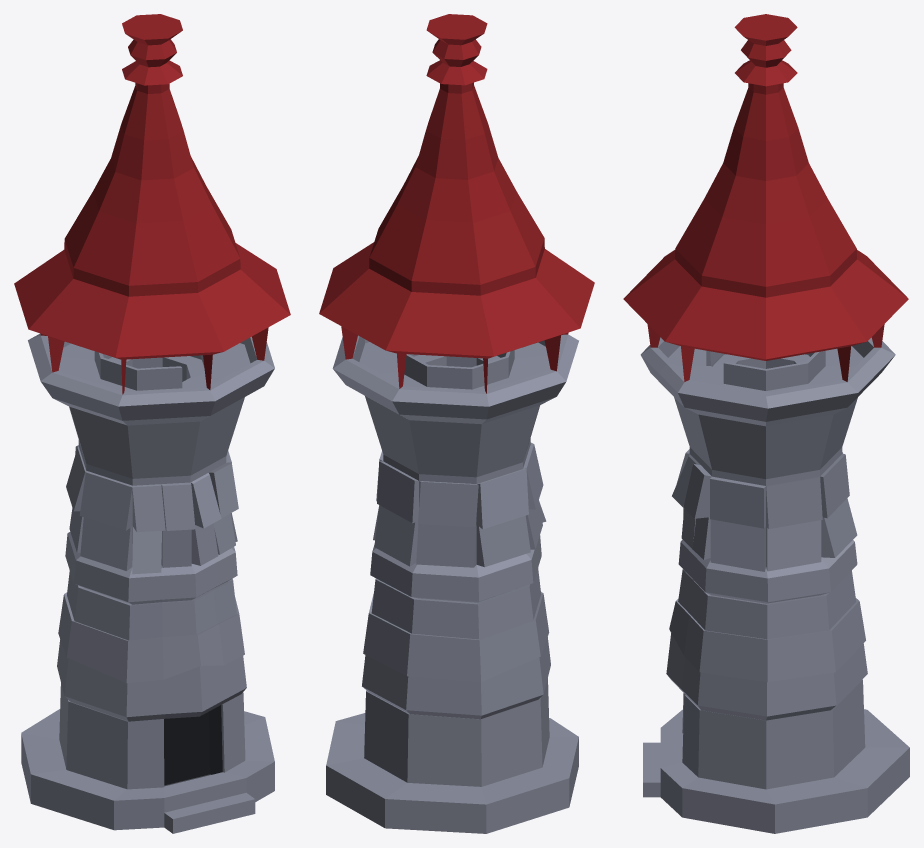
Rendered from tour.fbx.
3 views of the same model, side by side, from view 1: azimuth 30°, elevation 25°; view 2: azimuth 150°, elevation 25°; view 3: azimuth 270°, elevation 25° (orthographic).
Parts seen in each view (by area): view 1: Circle.001; view 2: Circle.001; view 3: Circle.001.
Boxes of the visible parts, x1,y1,x2,y2 form: Circle.001: (14,14,290,833); Circle.001: (319,14,594,833); Circle.001: (623,14,909,833).
Size of the model in its own units: 1838 by 5329 by 1844.
